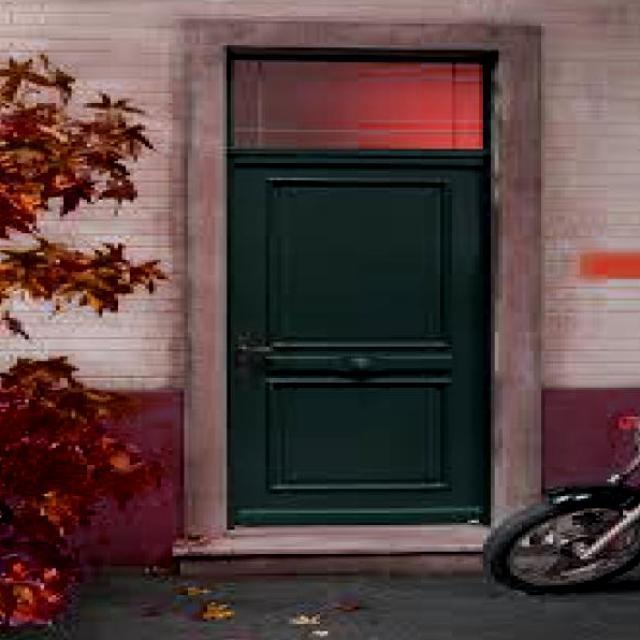door: (226, 152, 489, 525)
